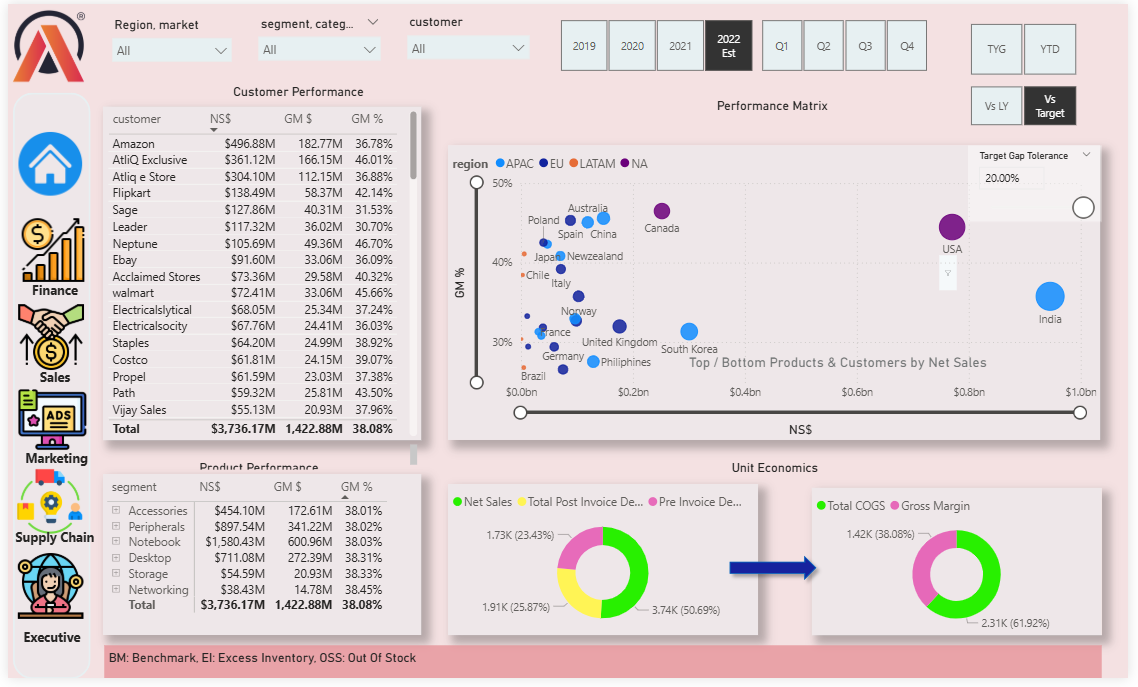

The page's visual inventory and layout, read from the dashboard file:
{"tool":"powerbi","page":{"name":"Sales View","canvas":[1280,771],"ordinal":4},"visuals":[{"type":"slicer","fields":{"Values":["fiscal_year.fy_desc"]},"box":[605.7,11.4,268.6,71.4],"z":0},{"type":"slicer","fields":{"Values":["dim_date.quarters"]},"box":[835.7,11.4,238.6,71.4],"z":1000},{"type":"slicer","fields":{"Values":["dim_date.ytd_ytg"]},"box":[1064.3,287.1,20,40],"z":2000},{"type":"slicer","fields":{"Values":["dim_date.ytd_ytg"]},"box":[1074.3,15.7,170,71.4],"z":3000},{"type":"card","fields":{"Values":["Key Measure.Top / Bottom N title"]},"box":[627.1,374.3,642.9,71.4],"z":4000},{"type":"slicer","fields":{"Values":["dim_market.region","dim_market.market"]},"box":[108.6,10,157.1,62.9],"z":5000},{"type":"slicer","fields":{"Values":["dim_customer.customer"]},"box":[445.7,7.1,160,67.1],"z":6000},{"type":"slicer","fields":{"Values":["dim_product.segment","dim_product.category","dim_product.product"]},"box":[275.7,8.6,160,67.1],"z":7000},{"type":"image","box":[0,0,95.7,95.7],"z":8000},{"type":"shape","box":[5.7,101.4,88.6,670],"z":9000},{"type":"image","box":[10,240,84.3,82.9],"z":10000},{"type":"image","box":[5.7,337.1,87.1,87.1],"z":11000},{"type":"image","box":[7.1,428.6,87.1,92.9],"z":12000},{"type":"image","box":[5.7,525.7,84.3,85.7],"z":13000},{"type":"image","box":[4.3,621.4,88.6,87.1],"z":14000},{"type":"image","box":[7.1,141.4,82.9,82.9],"z":15000},{"type":"tableEx","fields":{"Values":["dim_customer.customer","Key Measure.NS$","Key Measure.GM $","Key Measure.GM %"]},"box":[108.6,117.1,364.3,381.4],"z":16000},{"type":"donutChart","fields":{"Category":["P & L Rows.Description"],"Y":["Key Measure.P & L Values"]},"box":[502.9,548.6,354.3,172.9],"z":17000},{"type":"donutChart","fields":{"Category":["P & L Rows.Description"],"Y":["Key Measure.P & L Values"]},"box":[918.6,552.9,331.4,168.6],"z":18000},{"type":"scatterChart","fields":{"Category":["dim_customer.customer","dim_customer.market"],"X":["Key Measure.NS$"],"Series":["dim_market.region"],"Size":["Key Measure.NS$"],"Y":["Key Measure.GM %"]},"box":[502.9,161.4,745.7,337.1],"z":19000},{"type":"pivotTable","fields":{"Rows":["dim_product.segment","dim_product.category","dim_product.product"],"Values":["Key Measure.NS$","Key Measure.GM $","Key Measure.GM %"]},"box":[108.6,537.1,364.3,184.3],"z":20000},{"type":"textbox","box":[108.6,85.7,447.1,31.4],"z":21000},{"type":"textbox","box":[502.9,101.4,741.4,31.4],"z":22000},{"type":"textbox","box":[110,498.6,362.9,38.6],"z":23000},{"type":"textbox","box":[502.9,498.6,747.1,50],"z":24000},{"type":"shape","box":[815.7,621.4,117.1,45.7],"z":25000},{"type":"slicer","fields":{"Values":["Target Gap Tolerance 2.Target Gap Tolerance"]},"box":[1097.1,161.4,152.9,87.1],"z":26000},{"type":"slicer","fields":{"Values":["Set BM.Benchmarks"]},"box":[1074.3,87.1,170,58.6],"z":27000},{"type":"textbox","box":[110,732.9,1140,38.6],"z":28000},{"type":"textbox","box":[0,311.4,111.4,35.7],"z":29000},{"type":"textbox","box":[0,411.4,111.4,34.3],"z":30000},{"type":"textbox","box":[0,504,111,35],"z":31000},{"type":"textbox","box":[0,594,111,48],"z":32000},{"type":"textbox","box":[0,708.6,108.6,50],"z":33000}]}

Visuals, with their boxes in screenshot pixels (x1, y1, x2, y2), scaled from the page's 1280x771 canvas onto the 1138x687 screenshot:
slicer - fiscal_year.fy_desc: x1=539 y1=10 x2=777 y2=74
slicer - dim_date.quarters: x1=743 y1=10 x2=955 y2=74
slicer - dim_date.ytd_ytg: x1=946 y1=256 x2=964 y2=291
slicer - dim_date.ytd_ytg: x1=955 y1=14 x2=1106 y2=78
card - Key Measure.Top / Bottom N title: x1=558 y1=334 x2=1129 y2=397
slicer - dim_market.region x dim_market.market: x1=97 y1=9 x2=236 y2=65
slicer - dim_customer.customer: x1=396 y1=6 x2=539 y2=66
slicer - dim_product.segment x dim_product.category: x1=245 y1=8 x2=387 y2=67
image: x1=0 y1=0 x2=85 y2=85
shape: x1=5 y1=90 x2=84 y2=686
image: x1=9 y1=214 x2=84 y2=288
image: x1=5 y1=300 x2=83 y2=378
image: x1=6 y1=382 x2=84 y2=465
image: x1=5 y1=468 x2=80 y2=545
image: x1=4 y1=554 x2=83 y2=631
image: x1=6 y1=126 x2=80 y2=200
tableEx - dim_customer.customer x Key Measure.NS$: x1=97 y1=104 x2=420 y2=444
donutChart - P & L Rows.Description x Key Measure.P & L Values: x1=447 y1=489 x2=762 y2=643
donutChart - P & L Rows.Description x Key Measure.P & L Values: x1=817 y1=493 x2=1111 y2=643
scatterChart - dim_customer.customer x dim_customer.market: x1=447 y1=144 x2=1110 y2=444
pivotTable - dim_product.segment x dim_product.category: x1=97 y1=479 x2=420 y2=643
textbox: x1=97 y1=76 x2=494 y2=104
textbox: x1=447 y1=90 x2=1106 y2=118
textbox: x1=98 y1=444 x2=420 y2=479
textbox: x1=447 y1=444 x2=1111 y2=489
shape: x1=725 y1=554 x2=829 y2=594
slicer - Target Gap Tolerance 2.Target Gap Tolerance: x1=975 y1=144 x2=1111 y2=221
slicer - Set BM.Benchmarks: x1=955 y1=78 x2=1106 y2=130
textbox: x1=98 y1=653 x2=1111 y2=686
textbox: x1=0 y1=277 x2=99 y2=309
textbox: x1=0 y1=367 x2=99 y2=397
textbox: x1=0 y1=449 x2=99 y2=480
textbox: x1=0 y1=529 x2=99 y2=572
textbox: x1=0 y1=631 x2=97 y2=676
